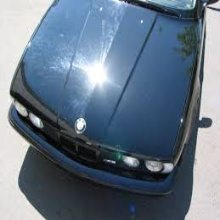no damage: (9, 1, 218, 198)
